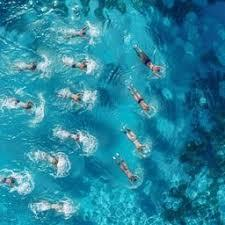swimmer: (132, 42, 167, 78), (111, 155, 141, 184), (120, 124, 145, 154), (127, 84, 149, 109), (59, 88, 85, 105), (61, 24, 89, 38), (40, 151, 61, 167), (69, 57, 91, 72), (7, 98, 33, 110), (11, 62, 46, 70), (63, 129, 84, 142), (39, 201, 64, 211), (0, 176, 15, 187)
